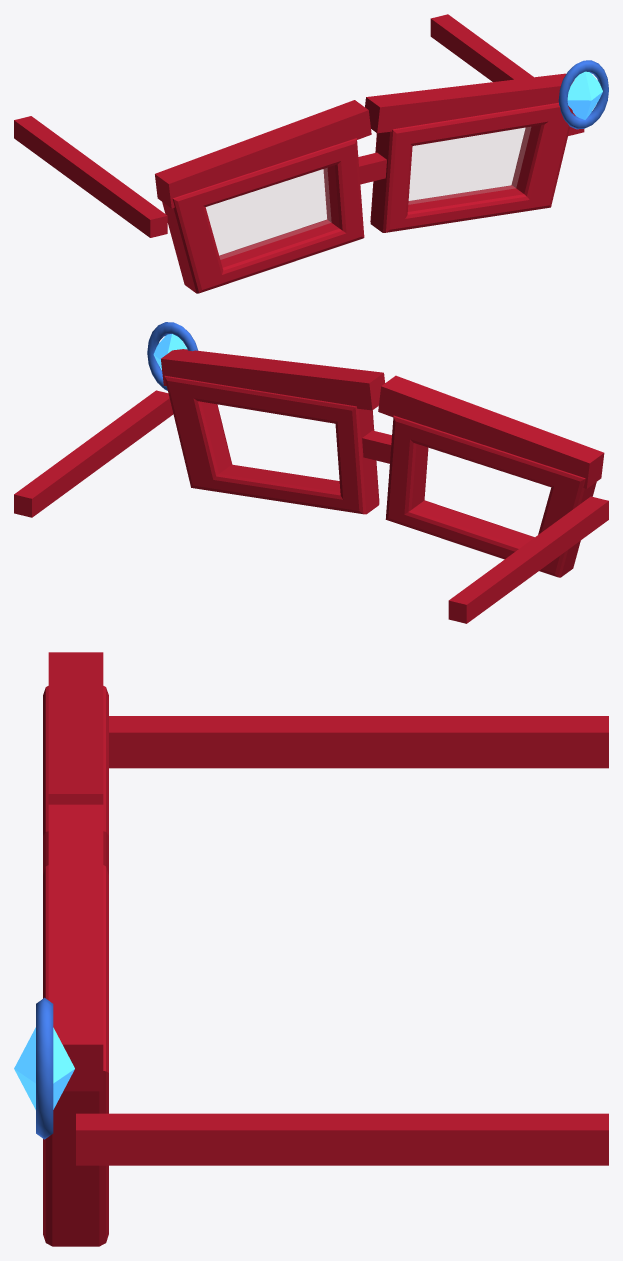
Rendered from gl_eqko1.glb.
3 views of the same model, one above another, from view 1: azimuth 30°, elevation 25°; view 2: azimuth 150°, elevation 25°; view 3: azimuth 270°, elevation 25° (orthographic). The views are drawn at different scales.
Bounding box in the file's own units: 2 × 0.6041 × 1.17.
